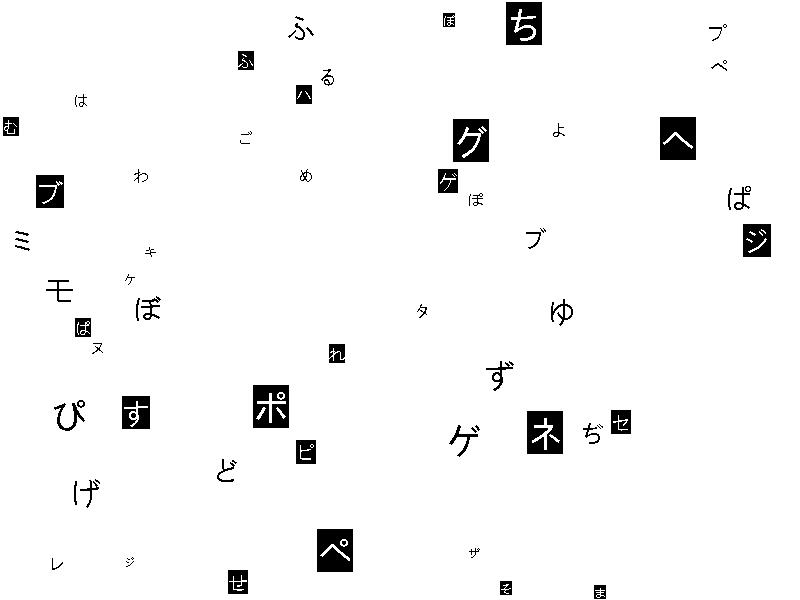japanese_102: (468, 545, 480, 559)
japanese_104: (743, 224, 771, 257), (124, 555, 136, 569)
japanese_105: (484, 355, 516, 393)
japanese_113: (580, 418, 604, 446)
japanese_119: (212, 453, 240, 486)
japanese_126: (36, 175, 64, 208), (523, 224, 547, 252)
japanese_129: (134, 291, 162, 324), (443, 13, 455, 27)
japanese_131: (725, 181, 753, 214), (75, 318, 91, 337)
japanese_133: (51, 393, 87, 436)
japanese_134: (296, 440, 316, 464)
japanese_136: (707, 20, 727, 44)
japanese_137: (710, 54, 730, 78)
japanese_138: (317, 529, 353, 572)
japanese_139: (468, 190, 484, 209)
japanese_14: (145, 245, 157, 259)
japanese_140: (253, 385, 289, 428)
japanese_18: (124, 272, 136, 286)
japanese_25: (122, 396, 150, 429)
japanese_27: (228, 570, 248, 594)
japanese_28: (611, 410, 631, 434)
japanese_29: (500, 581, 512, 595)
japanese_32: (415, 301, 431, 320)
japanese_33: (506, 2, 542, 45)
japanese_46: (89, 338, 105, 357)
japanese_48: (527, 411, 563, 454)
japanese_51: (73, 90, 89, 109)
japanese_52: (296, 85, 312, 104)
japanese_55: (287, 10, 315, 43), (238, 51, 254, 70)
japanese_58: (660, 117, 696, 160)
japanese_61: (594, 585, 606, 599)
japanese_64: (8, 223, 36, 256)
japanese_65: (3, 117, 19, 136)
japanese_67: (298, 165, 314, 184)
japanese_70: (44, 271, 76, 309)
japanese_73: (547, 294, 575, 327)
japanese_75: (550, 120, 566, 139)
japanese_81: (318, 65, 338, 89)
japanese_83: (329, 344, 345, 363)
japanese_84: (49, 554, 65, 573)
japanese_87: (133, 166, 149, 185)
japanese_96: (453, 119, 489, 162)
japanese_97: (69, 473, 101, 511)
japanese_98: (446, 418, 482, 461), (438, 169, 458, 193)
japanese_99: (237, 129, 253, 148)
